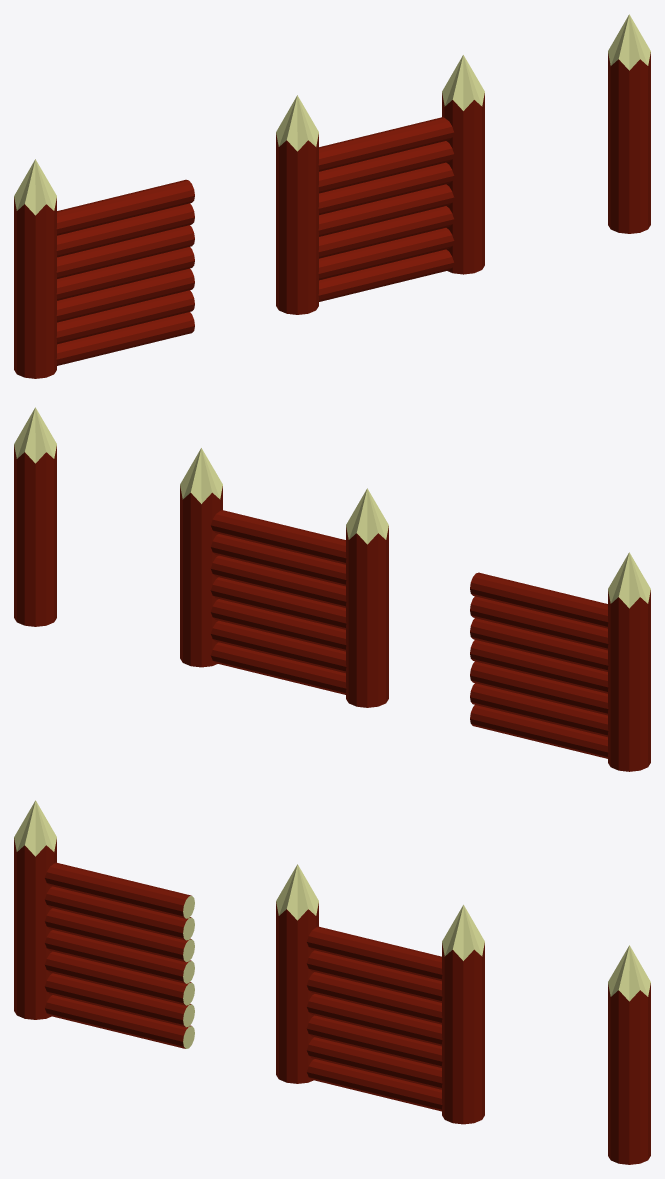
File: fence.fbx
3 renders of one model, top to bottom at view 1: azimuth 30°, elevation 25°; view 2: azimuth 150°, elevation 25°; view 3: azimuth 330°, elevation 25°, orthographic.
Visible parts, largest first — view 1: Цилиндр.002, Цилиндр, Цилиндр.010, Цилиндр.001, Цилиндр.017, Цилиндр.009, Цилиндр.011, Цилиндр.012, Цилиндр.016, Цилиндр.013, Цилиндр.014, Цилиндр.015 (+6 smaller); view 2: Цилиндр, Цилиндр.002, Цилиндр.010, Цилиндр.001, Цилиндр.017, Цилиндр.009, Цилиндр.012, Цилиндр.014, Цилиндр.013, Цилиндр.011, Цилиндр.015, Цилиндр.016 (+6 smaller); view 3: Цилиндр.001, Цилиндр.002, Цилиндр.010, Цилиндр, Цилиндр.017, Цилиндр.009, Цилиндр.015, Цилиндр.016, Цилиндр.012, Цилиндр.013, Цилиндр.014, Цилиндр.011 (+6 smaller).
Part boxes in pixels (x1,y1,x2,y2): Цилиндр.002: [608, 14, 650, 233]; Цилиндр: [276, 95, 318, 314]; Цилиндр.010: [14, 159, 56, 378]; Цилиндр.001: [442, 55, 484, 274]; Цилиндр.017: [56, 179, 194, 235]; Цилиндр.009: [318, 117, 454, 171]; Цилиндр.011: [56, 312, 194, 365]; Цилиндр.012: [56, 290, 194, 344]; Цилиндр.016: [56, 203, 194, 257]; Цилиндр.013: [56, 268, 194, 322]; Цилиндр.014: [56, 247, 194, 300]; Цилиндр.015: [56, 225, 194, 278]; Цилиндр: [346, 488, 388, 707]; Цилиндр.002: [14, 407, 56, 626]; Цилиндр.010: [608, 552, 650, 771]; Цилиндр.001: [180, 448, 222, 667]; Цилиндр.017: [470, 572, 608, 628]; Цилиндр.009: [210, 510, 346, 564]; Цилиндр.012: [470, 683, 608, 737]; Цилиндр.014: [470, 640, 608, 693]; Цилиндр.013: [470, 661, 608, 715]; Цилиндр.011: [470, 705, 608, 758]; Цилиндр.015: [470, 618, 608, 671]; Цилиндр.016: [470, 596, 608, 650]; Цилиндр.001: [442, 905, 484, 1124]; Цилиндр.002: [608, 945, 650, 1164]; Цилиндр.010: [14, 800, 56, 1019]; Цилиндр: [276, 864, 318, 1083]; Цилиндр.017: [45, 862, 194, 918]; Цилиндр.009: [306, 926, 442, 981]; Цилиндр.015: [44, 908, 194, 962]; Цилиндр.016: [44, 886, 194, 940]; Цилиндр.012: [44, 973, 194, 1027]; Цилиндр.013: [44, 951, 194, 1005]; Цилиндр.014: [45, 930, 194, 983]; Цилиндр.011: [45, 995, 194, 1048].
Bounding box in the file's own units: 3043 × 971 × 180.
